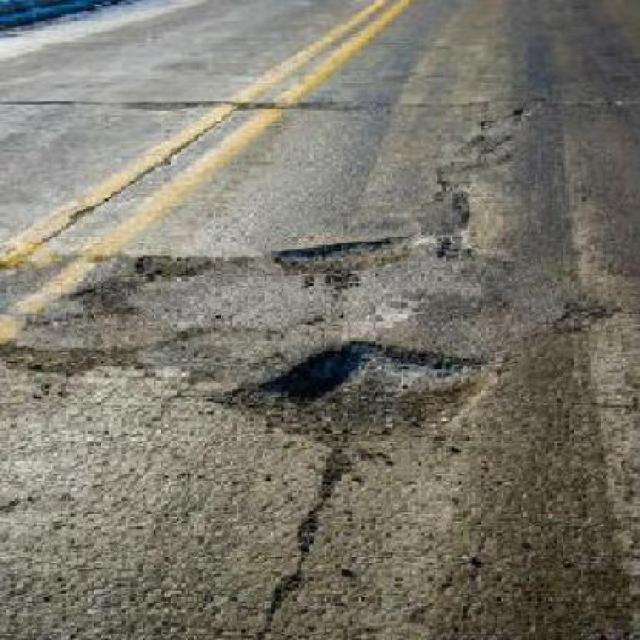Pothole: (215, 338, 503, 451), (0, 335, 146, 380), (264, 234, 414, 274), (128, 249, 224, 278)
